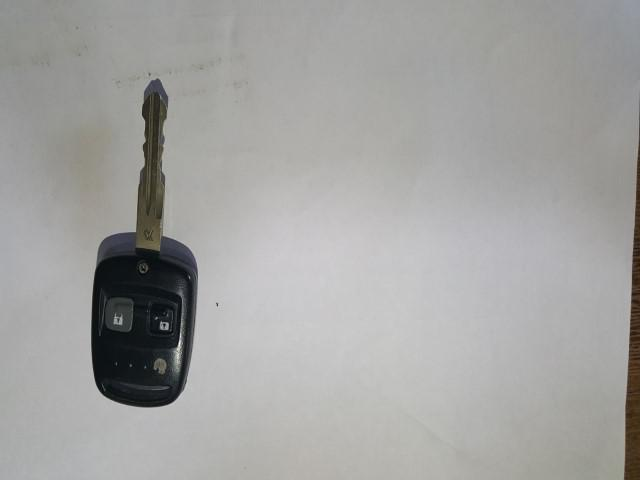key: (92, 91, 196, 196)
